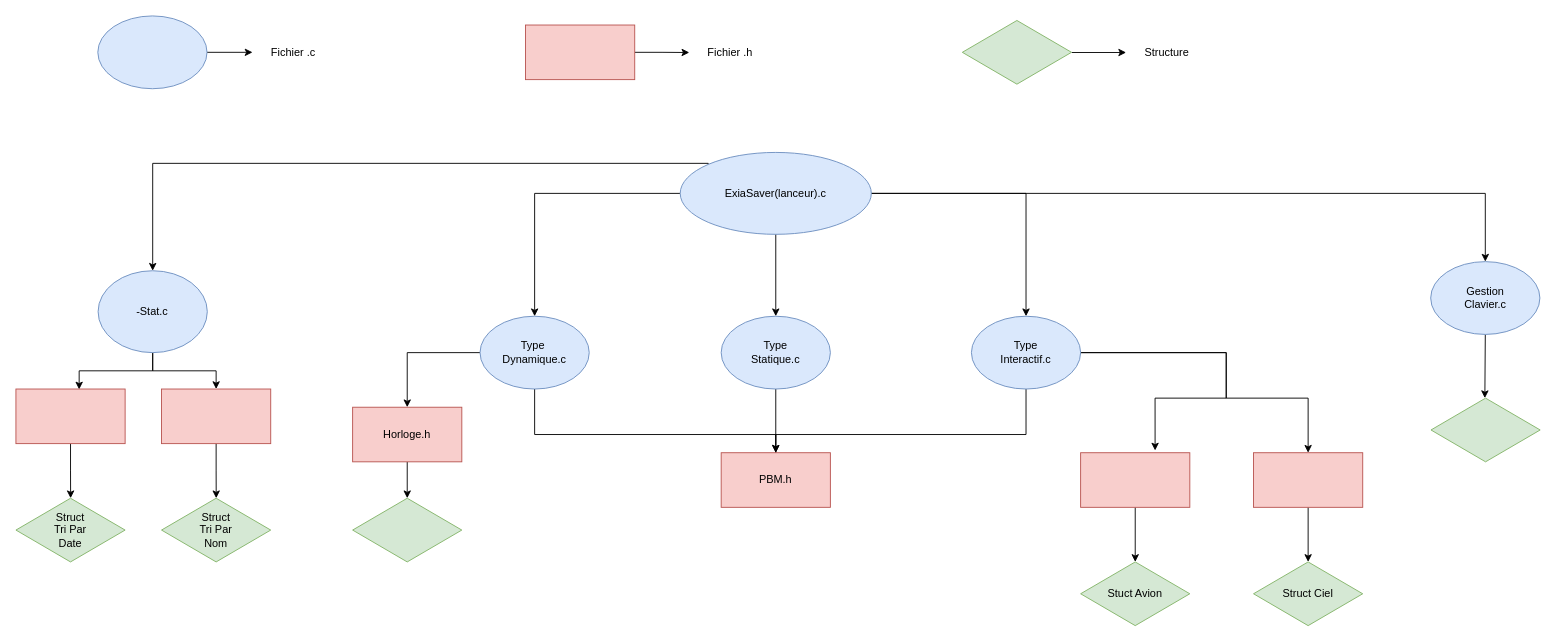
Image size: 1556x642. Some labels were removed from this diagram. The shapes that lost their labels are listed below. From the top down, each one's centre as x and y in pixels, then its label:
At (70,416): "Tri Par Date.h".
At (216,416): "Tri Par Nom.h".
At (1485,429): "Struct Commande".
At (1135,479): "Avion.h".
At (1308,479): "Ciel.h".
At (407,529): "Struct Horloge".
